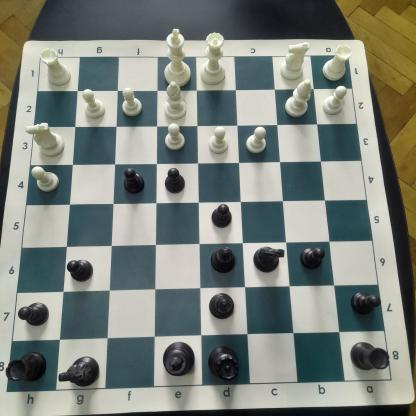black-bishop: (208, 245, 239, 276), (207, 290, 236, 322)
black-king: (160, 339, 197, 377)
black-knight: (58, 354, 102, 389), (252, 243, 286, 276)
black-pawn: (15, 298, 50, 330), (348, 288, 382, 318), (64, 255, 96, 285), (120, 165, 147, 198), (298, 243, 328, 272), (163, 164, 189, 197), (208, 202, 235, 229)
black-queen: (206, 342, 242, 382)
black-rook: (5, 349, 48, 385), (349, 340, 393, 374)
white-bishop: (160, 79, 190, 121), (283, 77, 312, 120)
white-king: (160, 25, 194, 89)
white-knight: (21, 120, 66, 160), (277, 40, 308, 82)
white-pawn: (26, 163, 62, 196), (319, 83, 351, 118), (79, 85, 108, 120), (118, 85, 145, 120), (204, 126, 232, 156), (243, 125, 268, 156), (162, 121, 188, 150)
white-queen: (199, 29, 229, 87)
white-rook: (37, 46, 73, 88), (320, 43, 354, 83)
